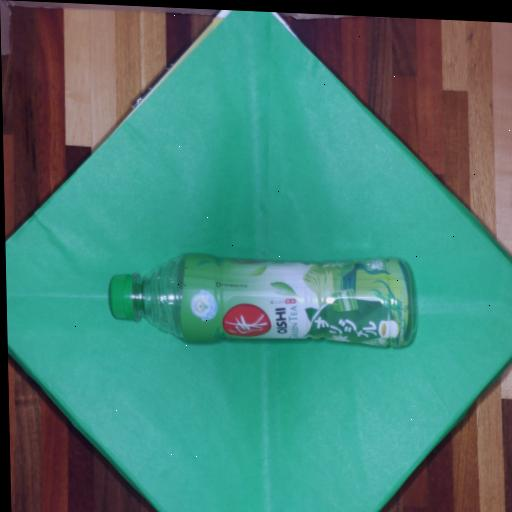bottle: (88, 226, 441, 368)
